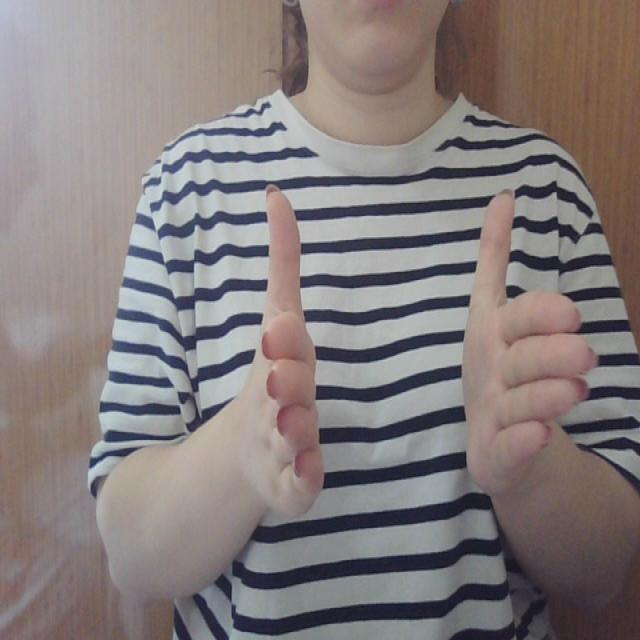Nasil: (221, 172, 604, 550)
